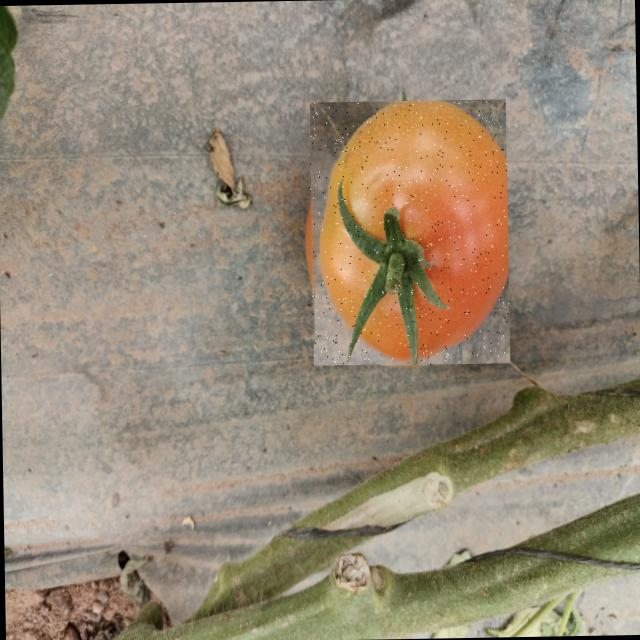Unripe Tomato: (308, 99, 510, 366)
